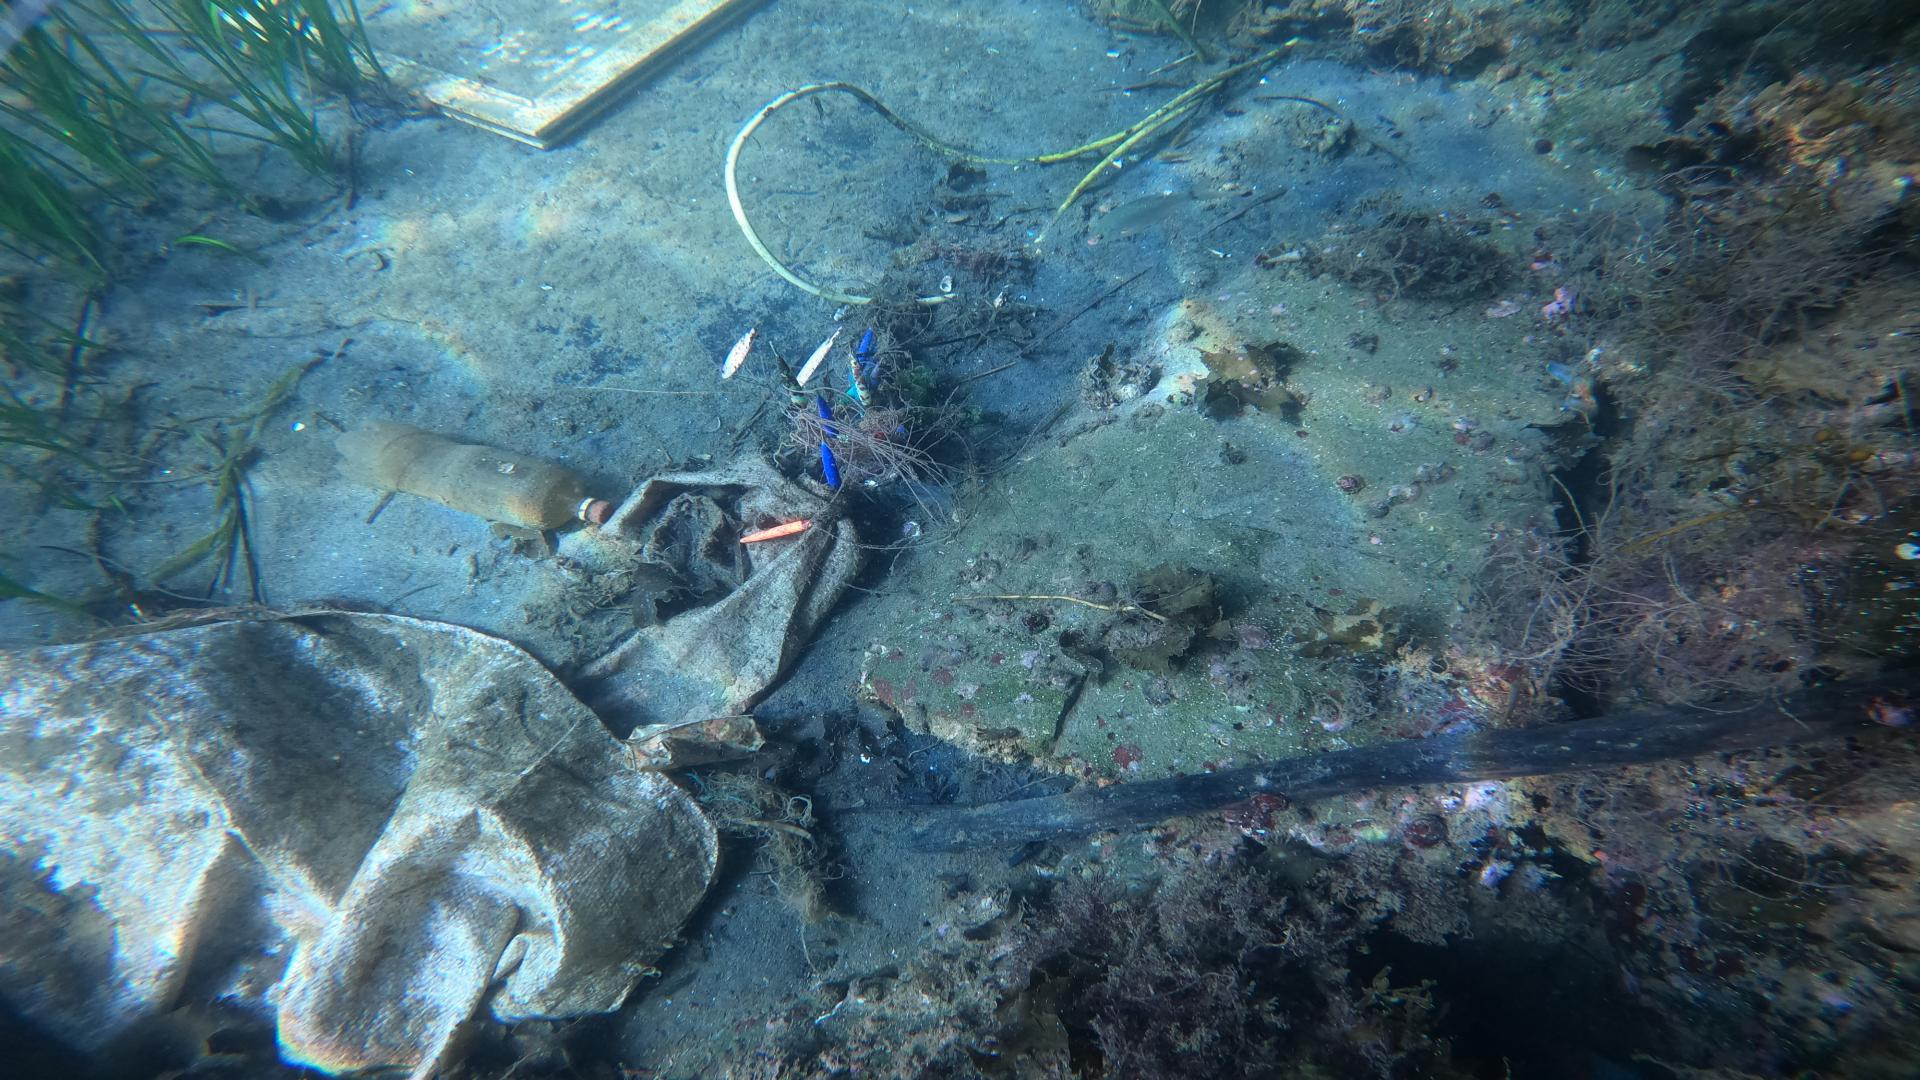wood: (831, 688, 1842, 853)
